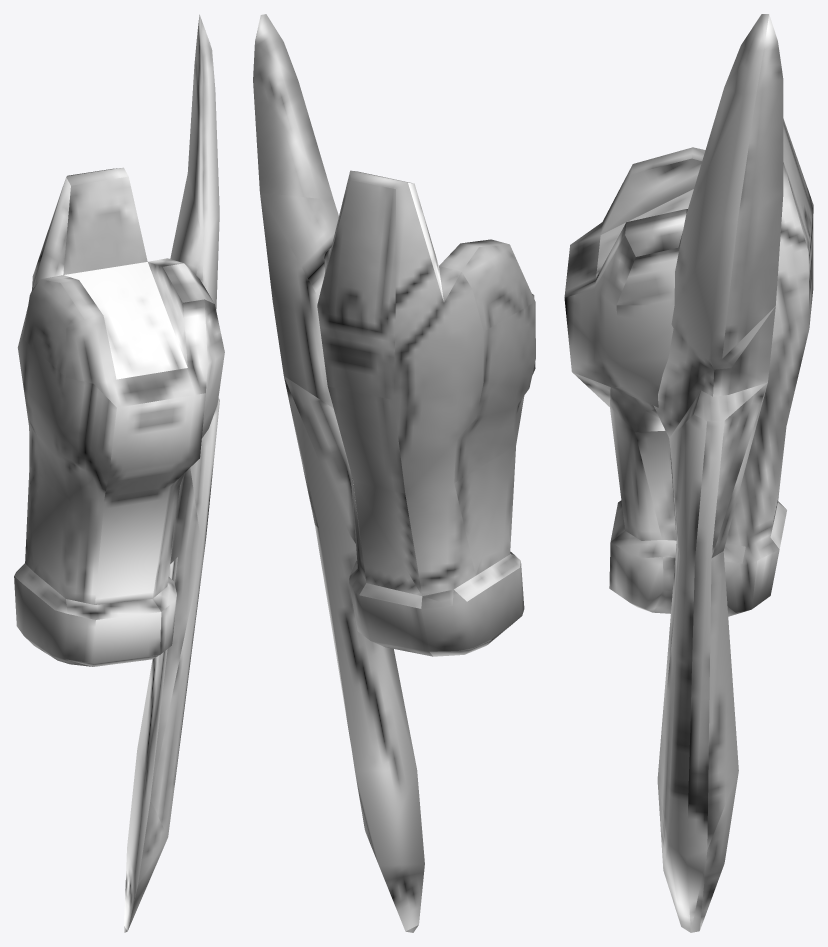
Rendered from l_fore.glb.
The picture shows the model from 3 angles, left to right: view 1: azimuth 30°, elevation 25°; view 2: azimuth 150°, elevation 25°; view 3: azimuth 270°, elevation 25°; orthographic projection. The views are drawn at different scales.
Visible parts, largest first — view 1: l_fore; view 2: l_fore; view 3: l_fore.
Part boxes in pixels (<box>): l_fore: <box>14,14,224,932</box>; l_fore: <box>253,14,535,932</box>; l_fore: <box>564,14,813,932</box>.
Bounding box in the file's own units: 0.3599 × 1.44 × 0.3324.
3 materials, 3 textured.
